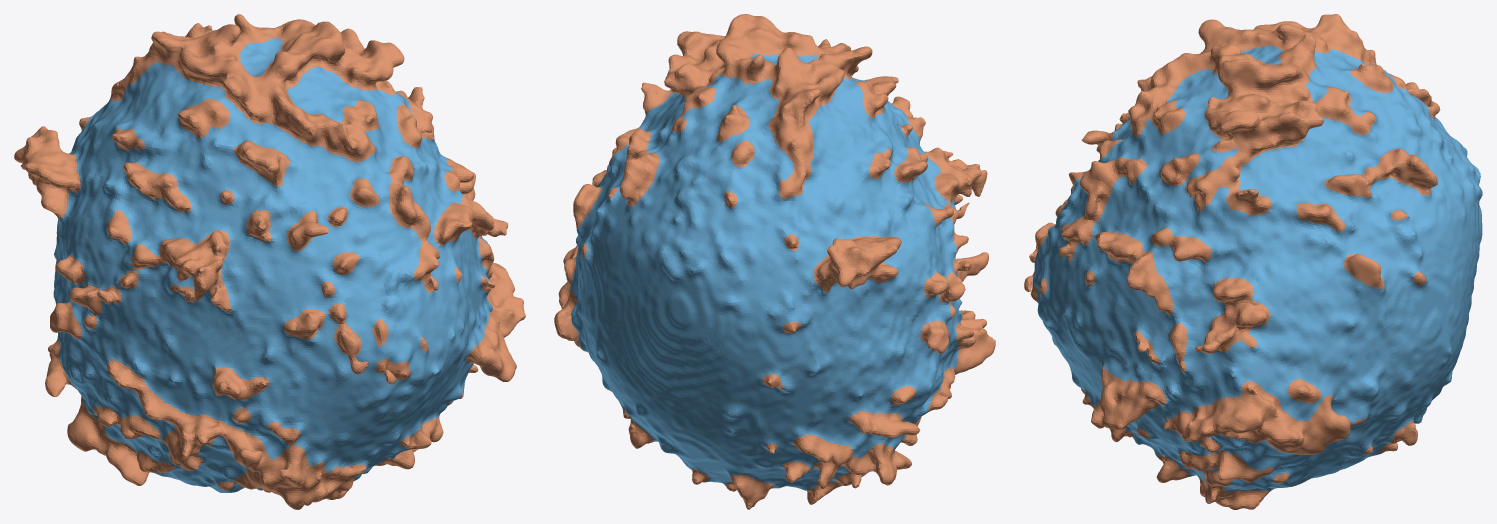
3 renders of one model, left to right at view 1: azimuth 30°, elevation 25°; view 2: azimuth 150°, elevation 25°; view 3: azimuth 270°, elevation 25°, orthographic. The views are drawn at different scales.
Size of the model in its own units: 146 by 148 by 142.
